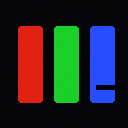3 line_h: (96, 85, 124, 89)
